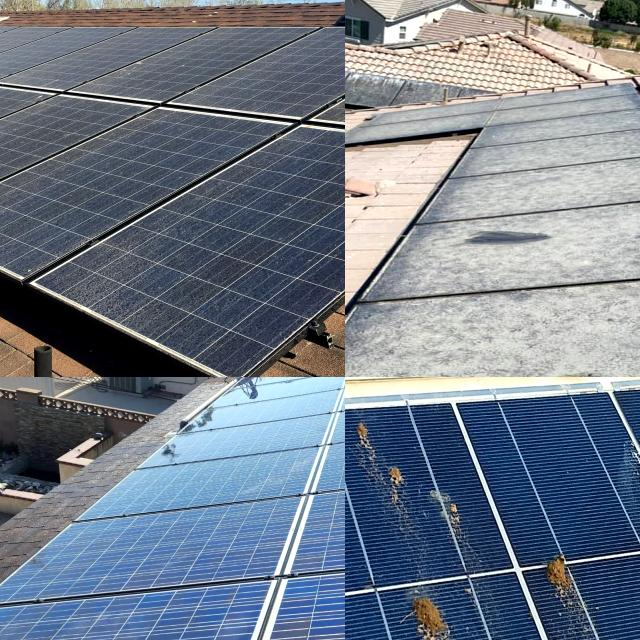bird: (352, 412, 413, 524), (397, 576, 473, 640), (420, 470, 464, 549), (538, 547, 588, 613), (614, 425, 640, 506)
crack: (94, 449, 345, 520), (0, 522, 273, 583), (0, 596, 284, 640)
dust: (366, 266, 640, 377), (126, 230, 306, 322), (361, 80, 618, 138), (450, 197, 640, 265), (476, 124, 640, 200), (0, 151, 119, 228), (278, 131, 345, 219), (0, 90, 55, 148), (62, 263, 125, 306)
